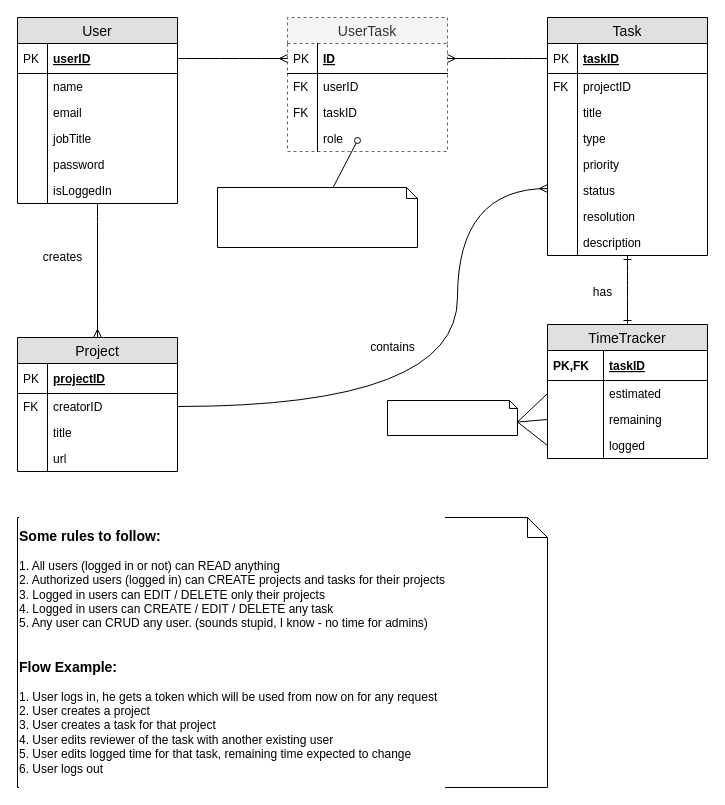
This 725x805 diagram has some shape labels left out. The shapes that lost their labels are listed below. From the top down, each one's centre as x and y in pixels, then its label:
point 317,217: role: 'reviewer' / 'sqaAsignee' / 'reporter' / 'asignee'
point 452,418: number of hours
